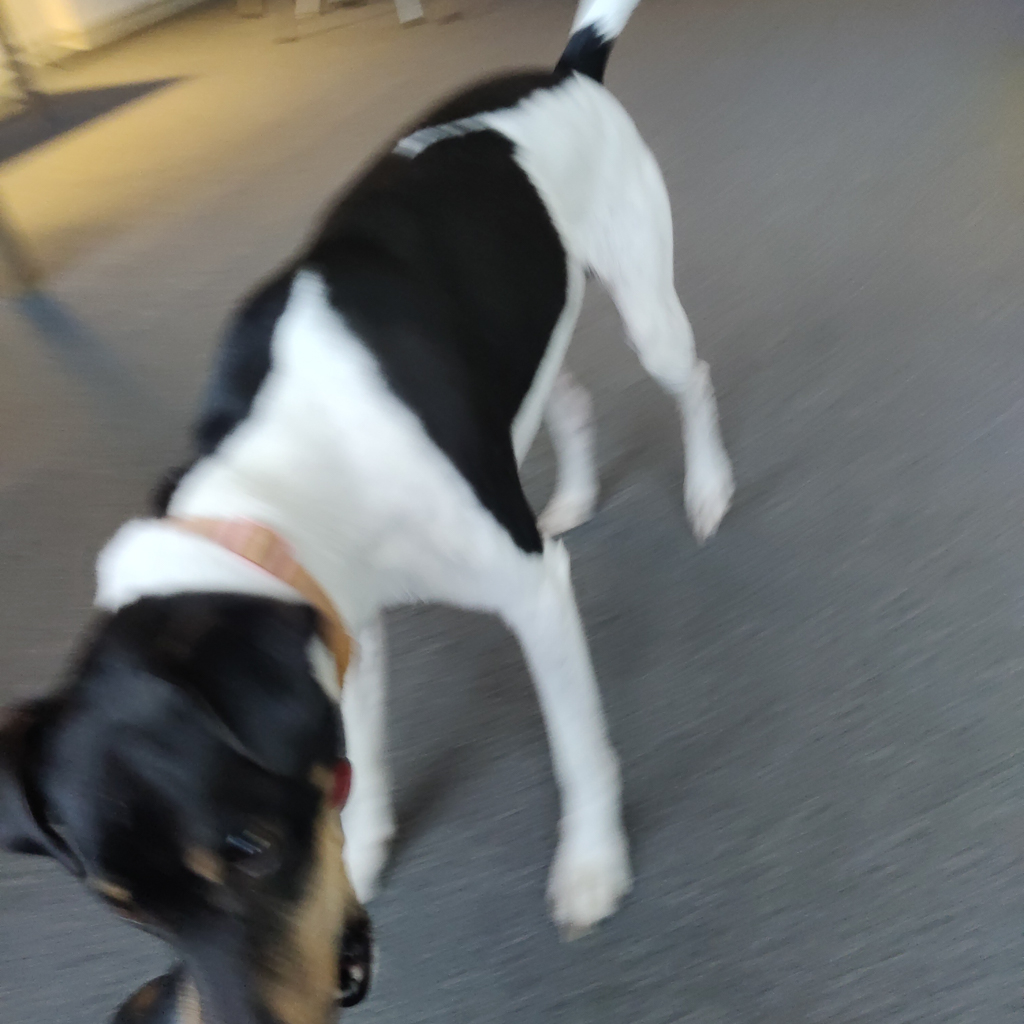Dog: (0, 0, 747, 1024)
